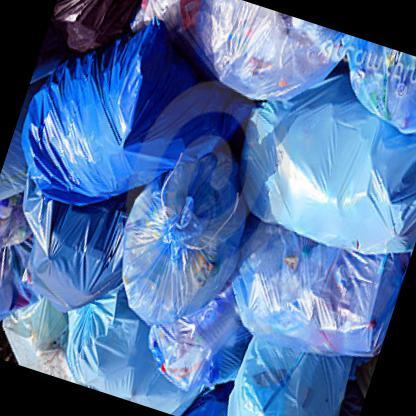Garbage: (0, 0, 202, 357), (233, 81, 415, 392), (108, 75, 300, 348), (67, 290, 372, 415), (195, 0, 342, 119)
